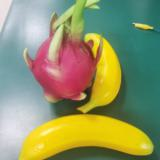pitaya: (24, 7, 99, 104)
